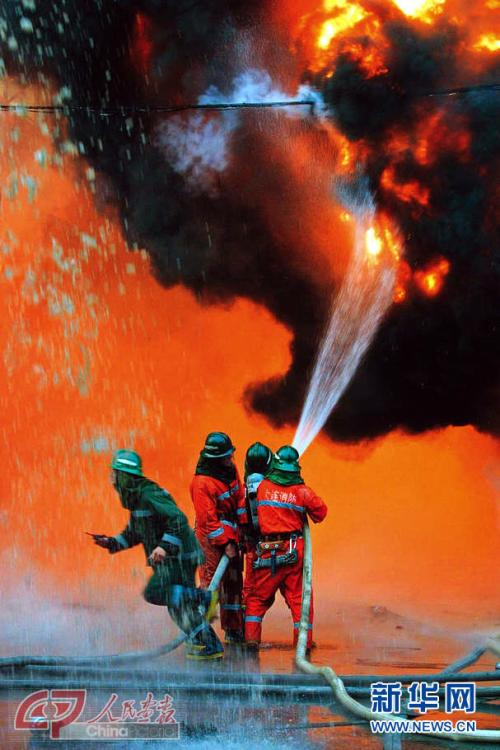fire: (310, 4, 461, 303)
